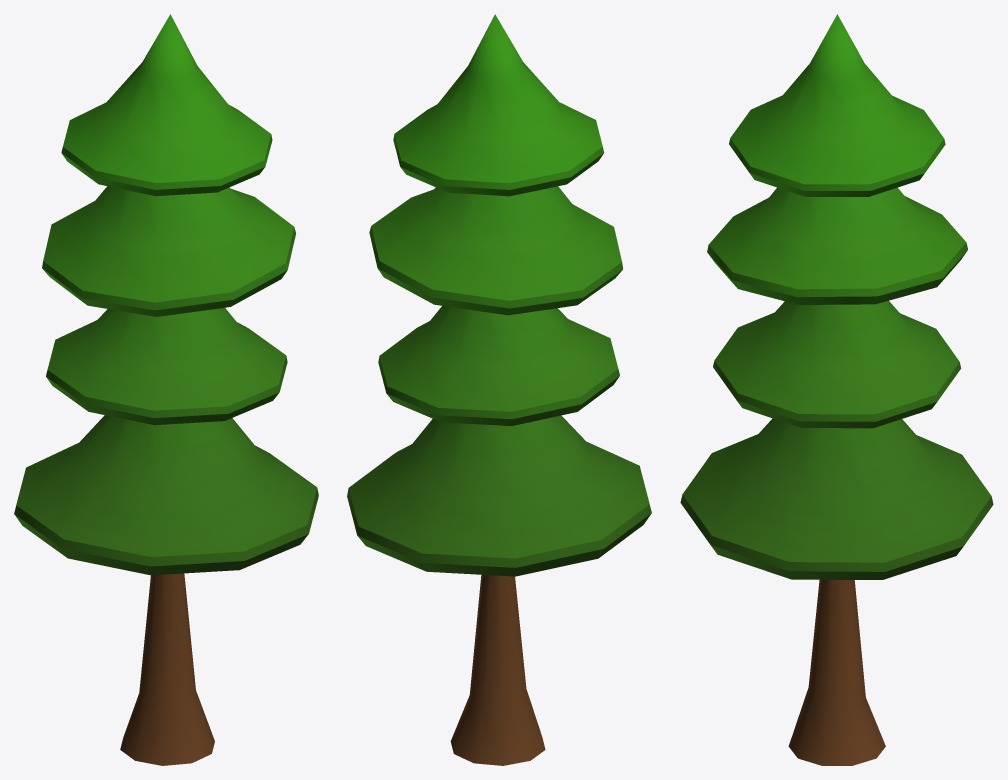
File: PineTree_1_A.fbx
3 views of the same model, side by side, from view 1: azimuth 30°, elevation 25°; view 2: azimuth 150°, elevation 25°; view 3: azimuth 270°, elevation 25° (orthographic).
Visible parts, largest first — view 1: PineTree_1_A; view 2: PineTree_1_A; view 3: PineTree_1_A.
Part boxes in pixels (x1=…): PineTree_1_A: x1=14, y1=14, x2=318, y2=765; PineTree_1_A: x1=347, y1=14, x2=651, y2=765; PineTree_1_A: x1=680, y1=14, x2=993, y2=765.
Size of the model in its own units: 373 by 1015 by 393.
